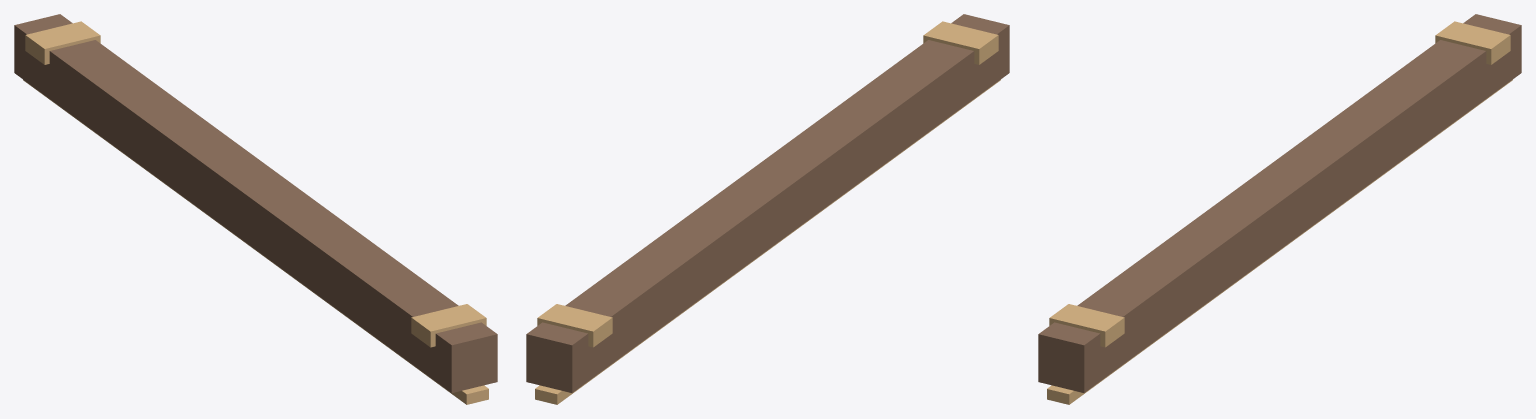
The model's file is side-rail-long.glb.
3 renders of one model, left to right at view 1: azimuth 30°, elevation 25°; view 2: azimuth 150°, elevation 25°; view 3: azimuth 330°, elevation 25°, orthographic.
Parts seen in each view (by area): view 1: world; view 2: world; view 3: world.
Boxes of the visible parts, x1,y1,x2,y2 form: world: [14, 14, 497, 404]; world: [526, 14, 1009, 404]; world: [1038, 14, 1521, 404].
Bounding box in the file's own units: 0.55 × 0.595 × 7.56.
